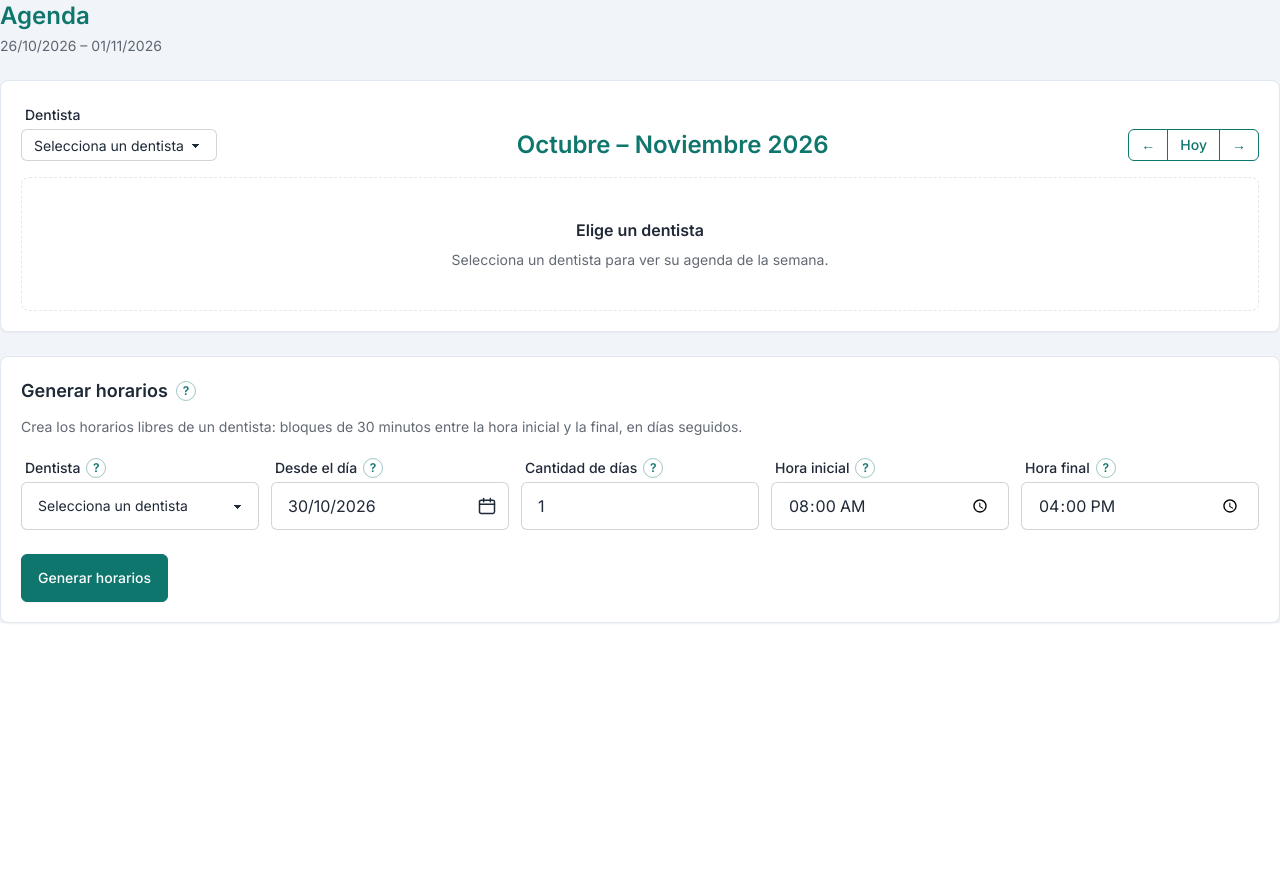
Test: Agendar desde la semana › agenda a un paciente existente en un horario libre
The image size is (1280, 889).
Select "Ana Pérez" in the 1st dropdown labelled "Dentista" at (119, 145), box [21,129,217,161]
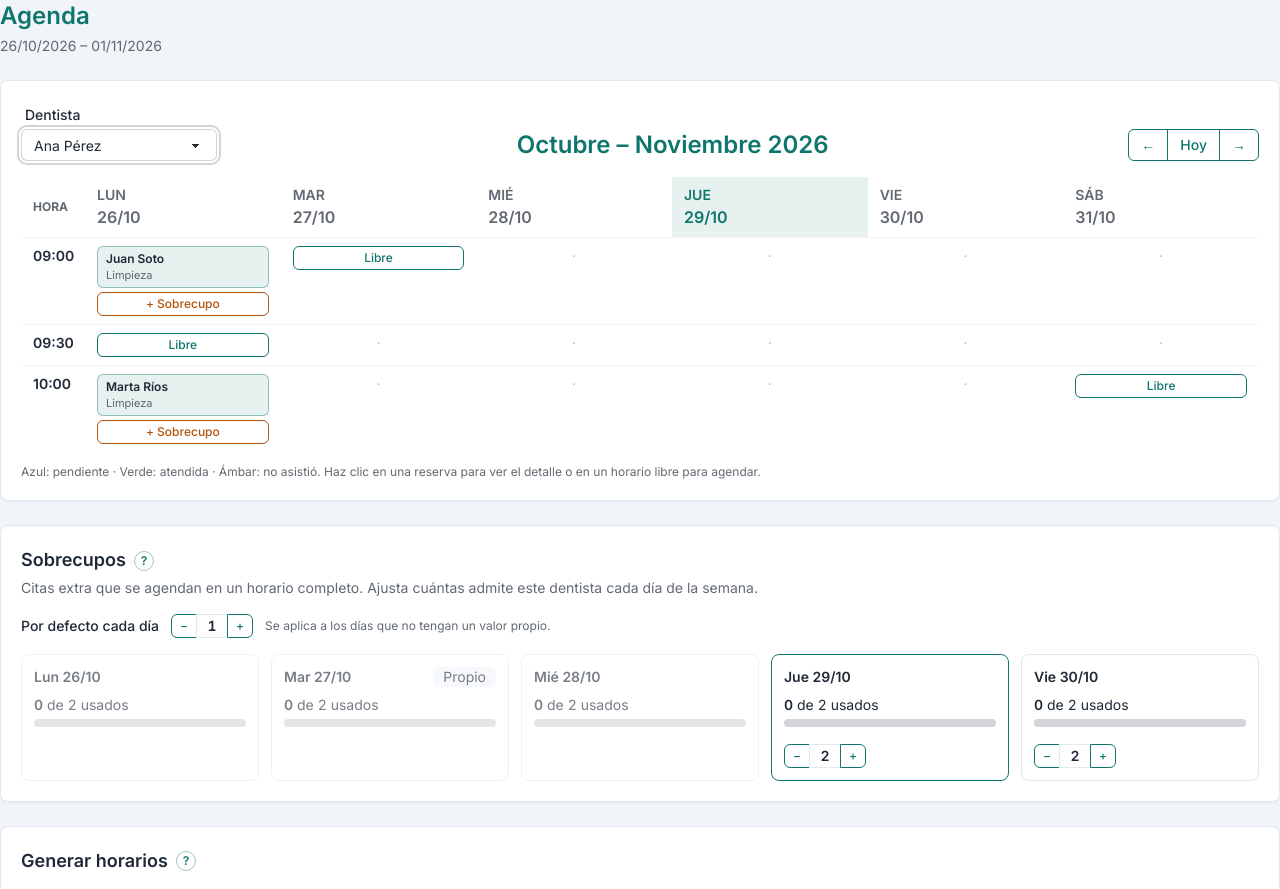
expect the button with aria-label "Reserva de Juan Soto" is shown: met, box [97,246,269,288]
Click the button "Libre" in the row of "09:00" at (379, 258), box [293,246,464,270]
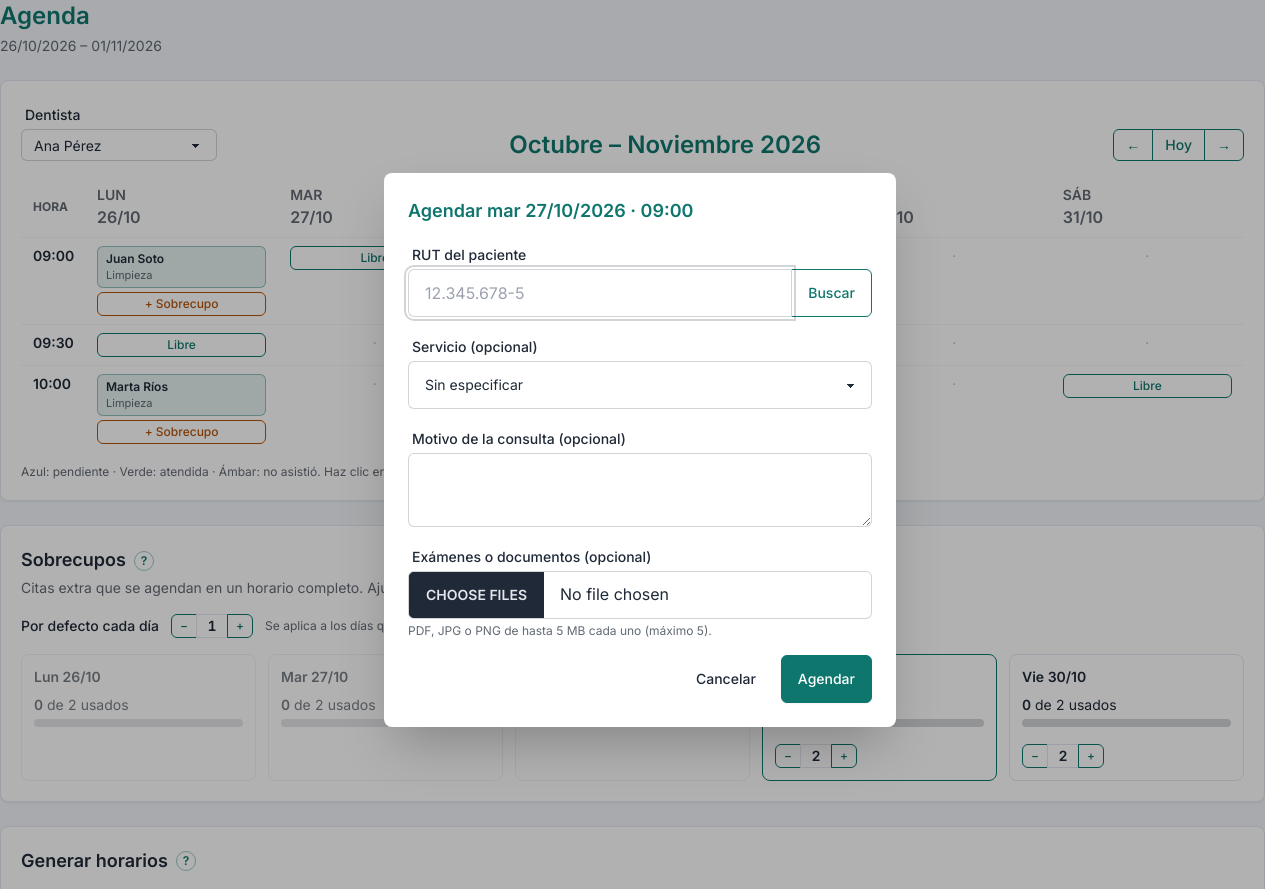
Type "123456785" into the field labelled "RUT del paciente" at (600, 293), box [408,269,792,317]
Click the button "Buscar" at (832, 293), box [791,269,872,317]
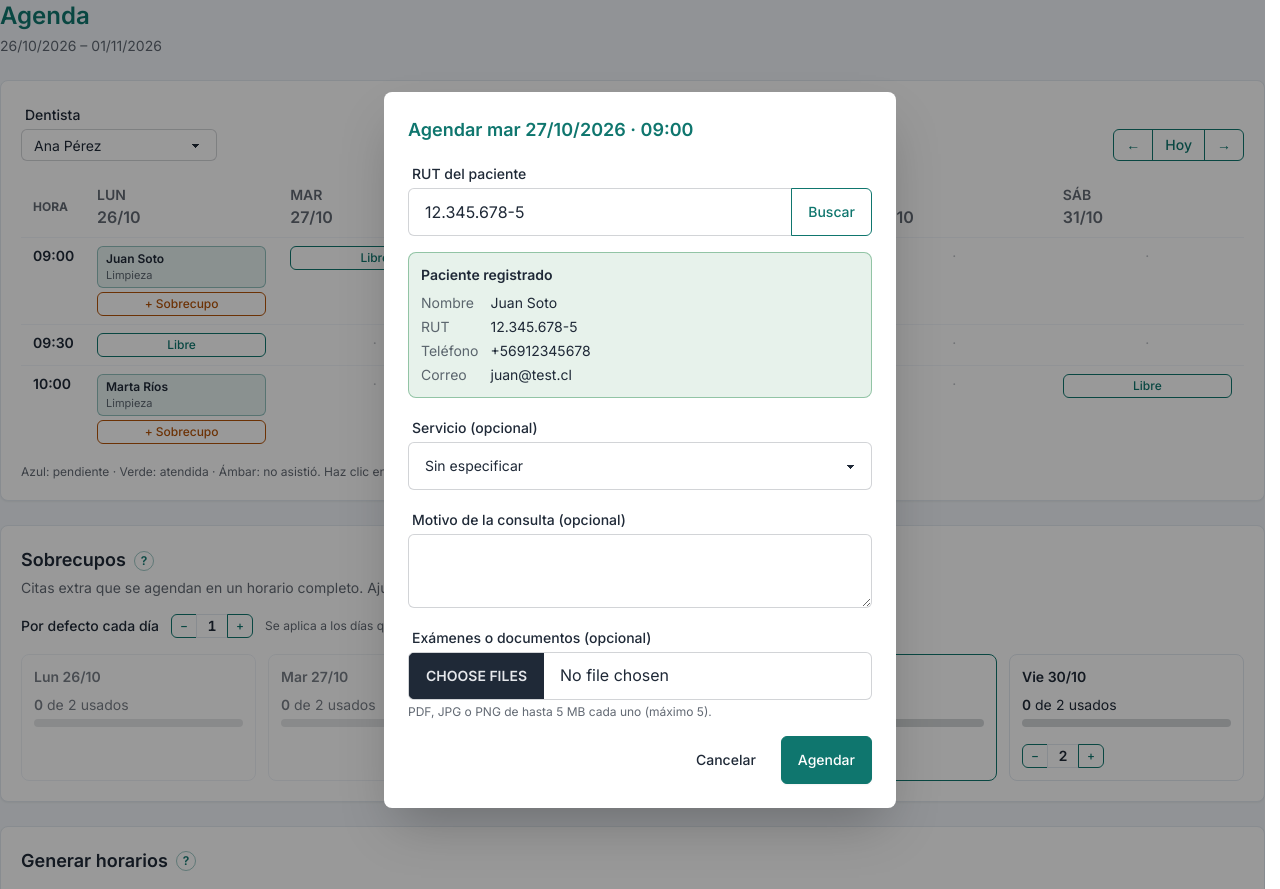
expect the text "Paciente registrado" is shown: met, box [421,266,552,283]
Select "Limpieza · 30 min" in the dropdown labelled "Servicio (opcional)" at (640, 466), box [408,442,872,490]
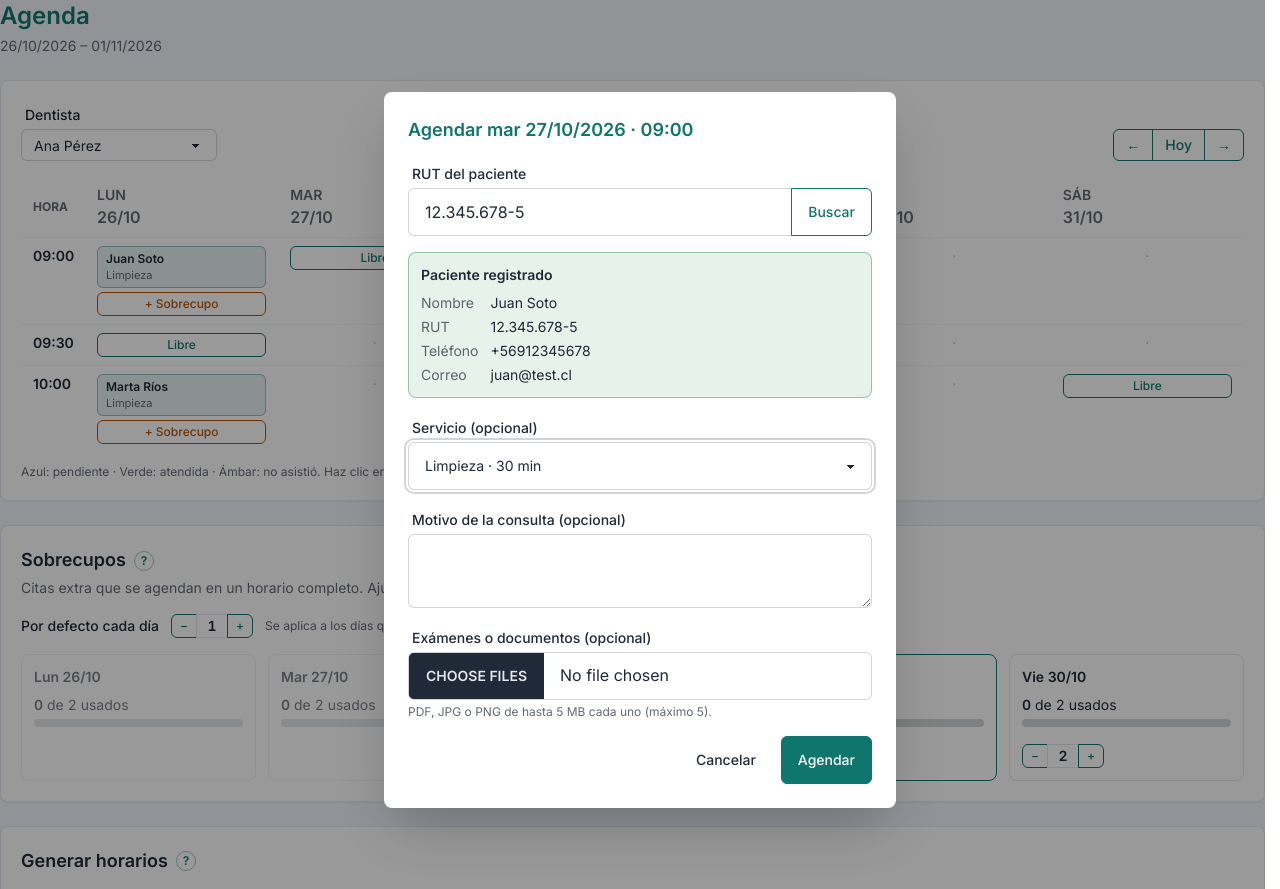
Type "Control" into the text box labelled "Motivo de la consulta (opcional)" at (640, 571), box [408,534,872,608]
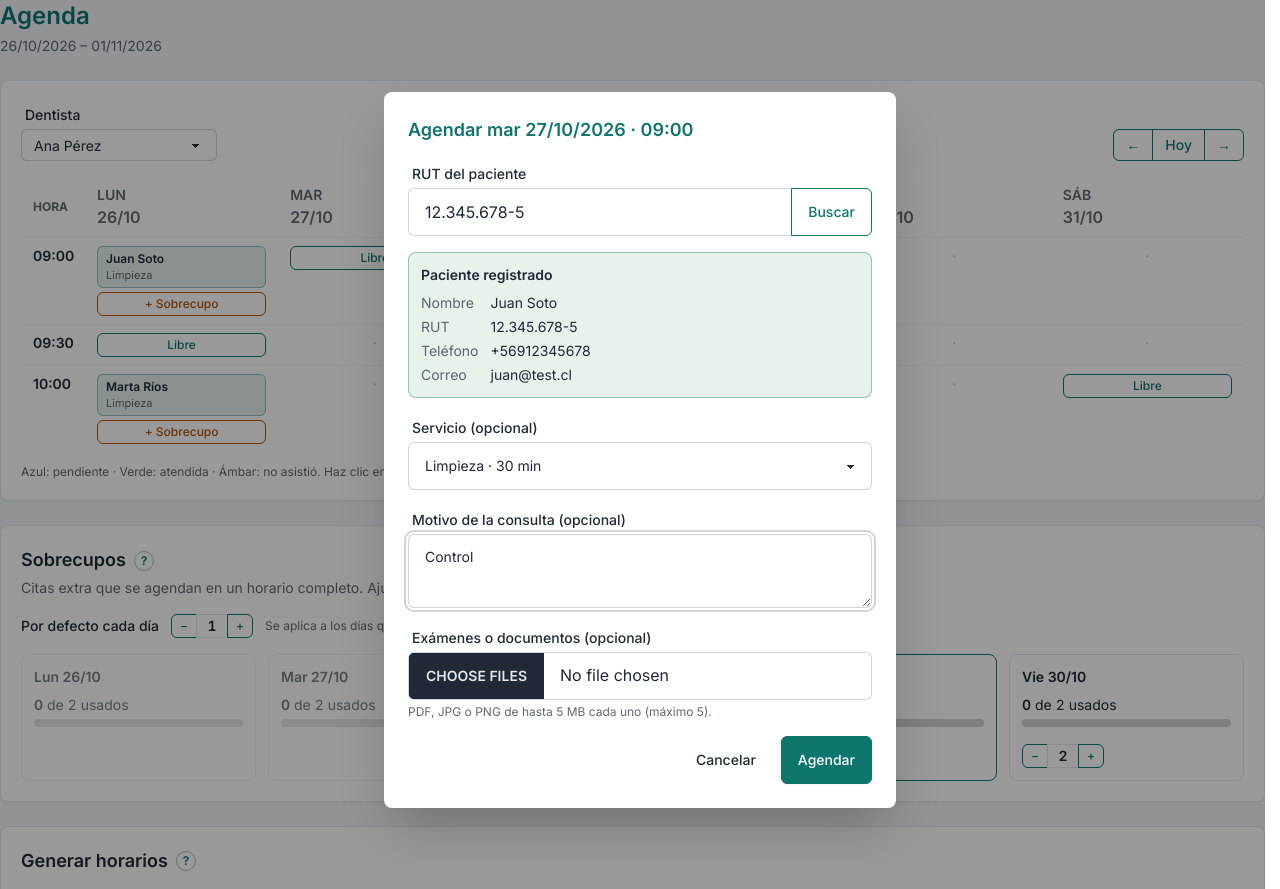
Click the button "Agendar" at (826, 760), box [781,736,872,784]
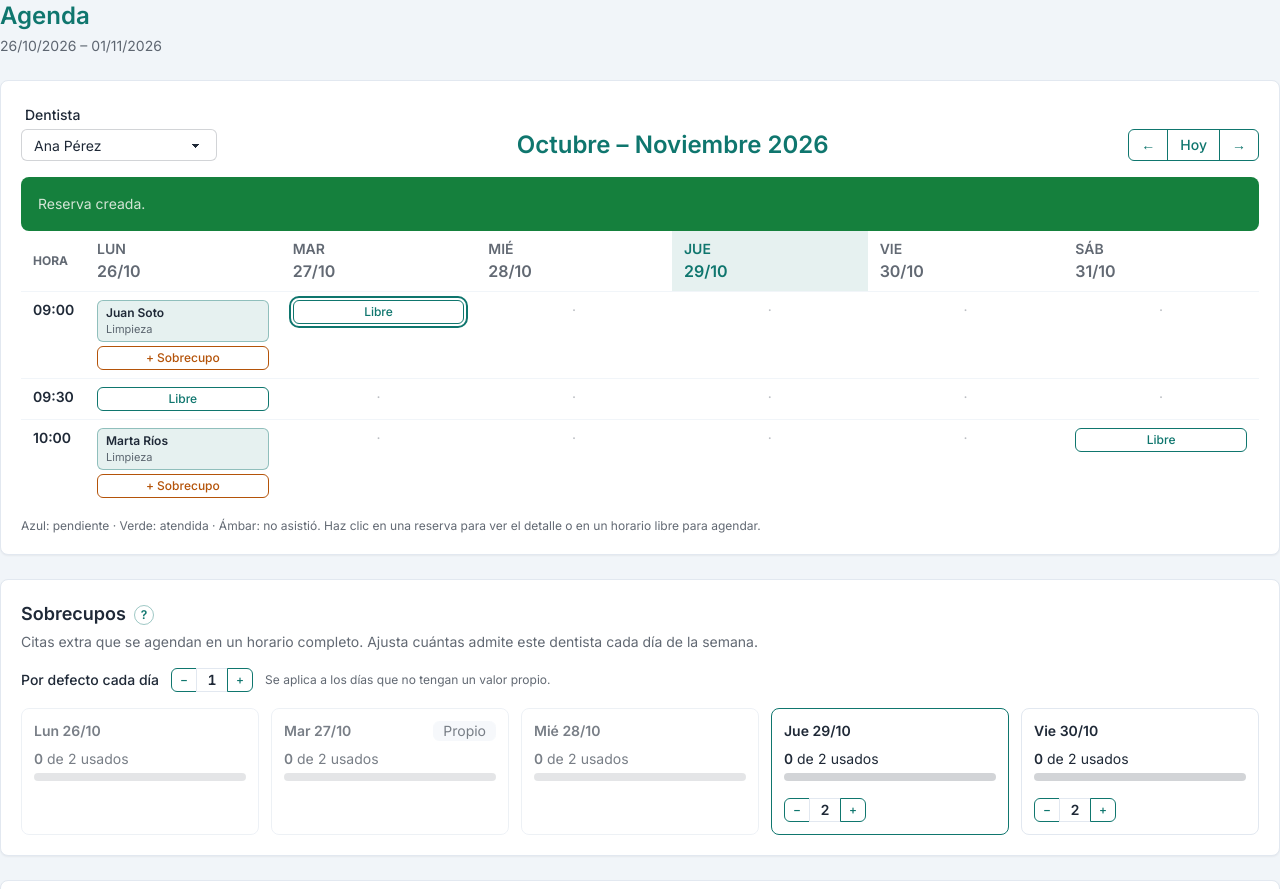
expect the message reads "Reserva creada.": met, box [38,195,145,212]
